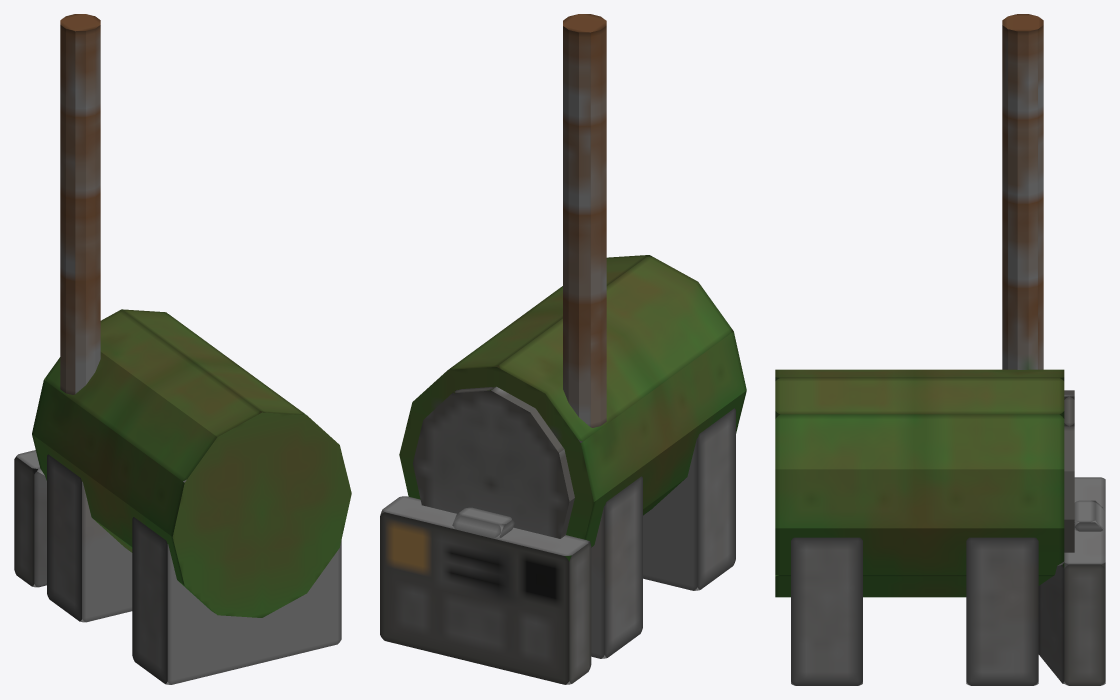
The model's file is wood_burning_generator.obj.
3 views of the same model, side by side, from view 1: azimuth 30°, elevation 25°; view 2: azimuth 150°, elevation 25°; view 3: azimuth 270°, elevation 25° (orthographic). The views are drawn at different scales.
Parts seen in each view (by area): view 1: cylinder; view 2: cylinder; view 3: cylinder.
Part boxes in pixels (x1,y1,x2,y2): cylinder: [14, 14, 351, 684]; cylinder: [380, 14, 746, 684]; cylinder: [775, 14, 1105, 685].
Bounding box in the file's own units: 1.29 × 3.94 × 2.
